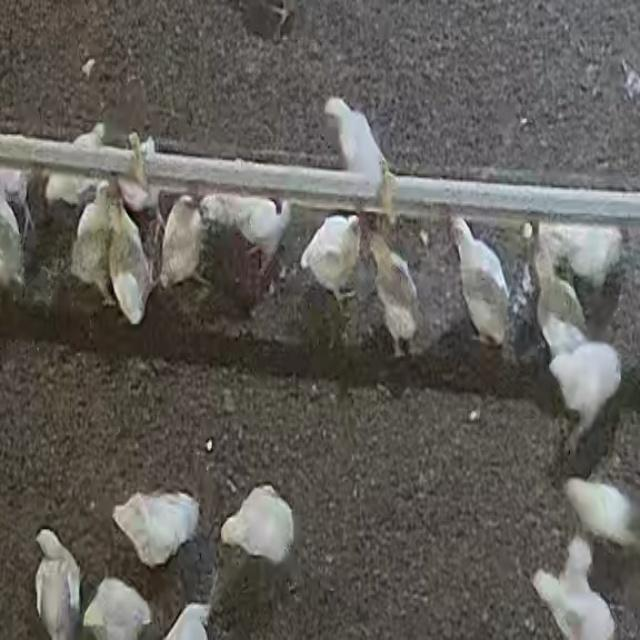chicken: (533, 539, 618, 640), (549, 338, 622, 454), (450, 215, 513, 348), (199, 192, 293, 273), (367, 228, 421, 357), (116, 487, 196, 566), (106, 189, 151, 324), (299, 213, 360, 311), (69, 180, 116, 303), (219, 490, 293, 563), (34, 530, 82, 640), (323, 97, 384, 181), (566, 478, 640, 547), (540, 221, 617, 284), (159, 194, 208, 291), (43, 127, 99, 210), (531, 254, 579, 345), (86, 582, 148, 640), (0, 198, 28, 285), (171, 602, 209, 640)
